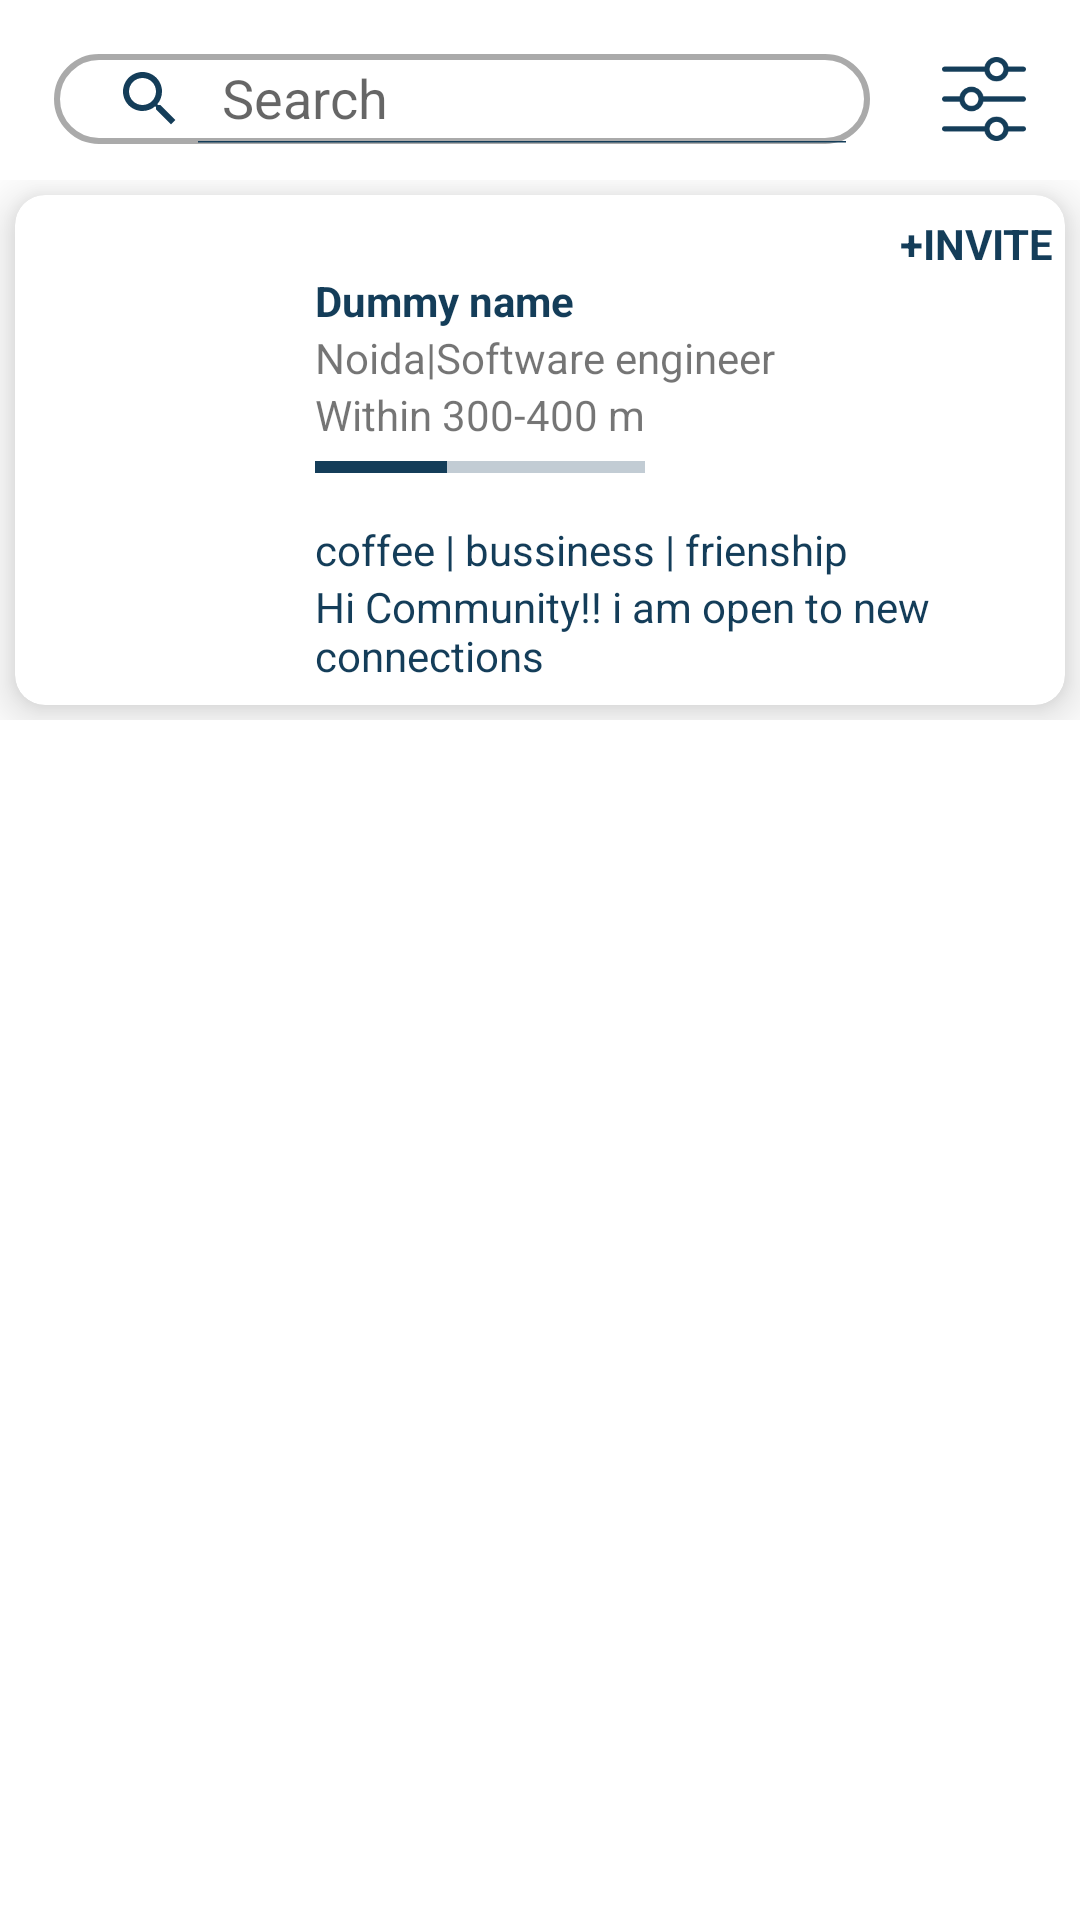

Icon click points for this 1080 x 1920 phone screenshot, format point (x, y):
filter: point (984, 99)
